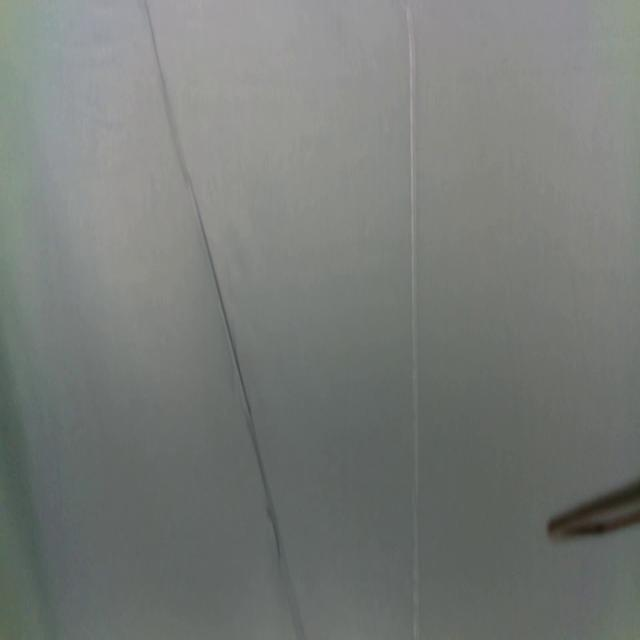crease: (145, 0, 307, 640), (406, 0, 420, 640)
